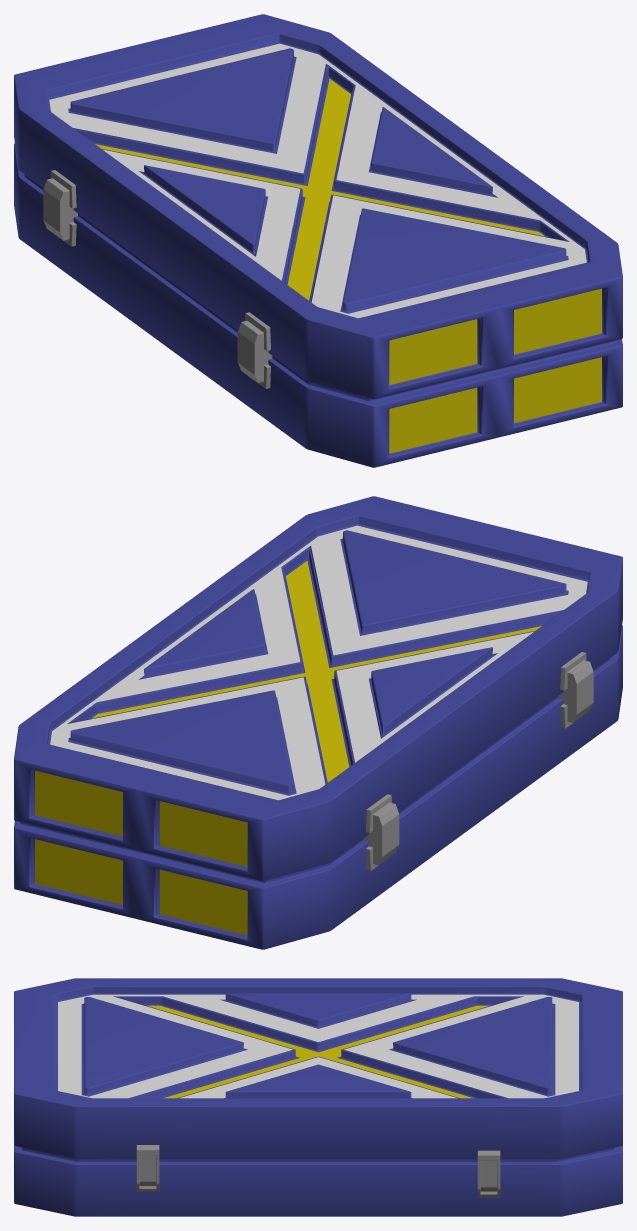
File: Cassa3.fbx
The picture shows the model from 3 angles, top to bottom: view 1: azimuth 30°, elevation 25°; view 2: azimuth 150°, elevation 25°; view 3: azimuth 270°, elevation 25°; orthographic projection. The views are drawn at different scales.
Parts seen in each view (by area): view 1: Cassa, Insect1, Insect3, Insect2, Cerniera1, Cerniera2; view 2: Cassa, Insect1, Insect3, Insect2, Cerniera2, Cerniera1; view 3: Cassa, Insect1, Insect2, Lock1, Lock2.
Part boxes in pixels (bbox=[...]): Cassa: bbox=[14, 14, 622, 467]; Insect1: bbox=[49, 43, 586, 318]; Insect3: bbox=[389, 288, 601, 453]; Insect2: bbox=[95, 79, 544, 300]; Cerniera1: bbox=[237, 312, 272, 388]; Cerniera2: bbox=[43, 170, 77, 246]; Cassa: bbox=[14, 496, 622, 949]; Insect1: bbox=[50, 525, 587, 800]; Insect3: bbox=[35, 770, 247, 935]; Insect2: bbox=[92, 561, 541, 782]; Cerniera2: bbox=[364, 794, 399, 870]; Cerniera1: bbox=[559, 652, 593, 728]; Cassa: bbox=[14, 978, 622, 1216]; Insect1: bbox=[58, 994, 578, 1098]; Insect2: bbox=[147, 1005, 489, 1098]; Lock1: bbox=[477, 1150, 500, 1197]; Lock2: bbox=[136, 1145, 159, 1191].
Bounding box in the file's own units: 54.02 × 20 × 100.
